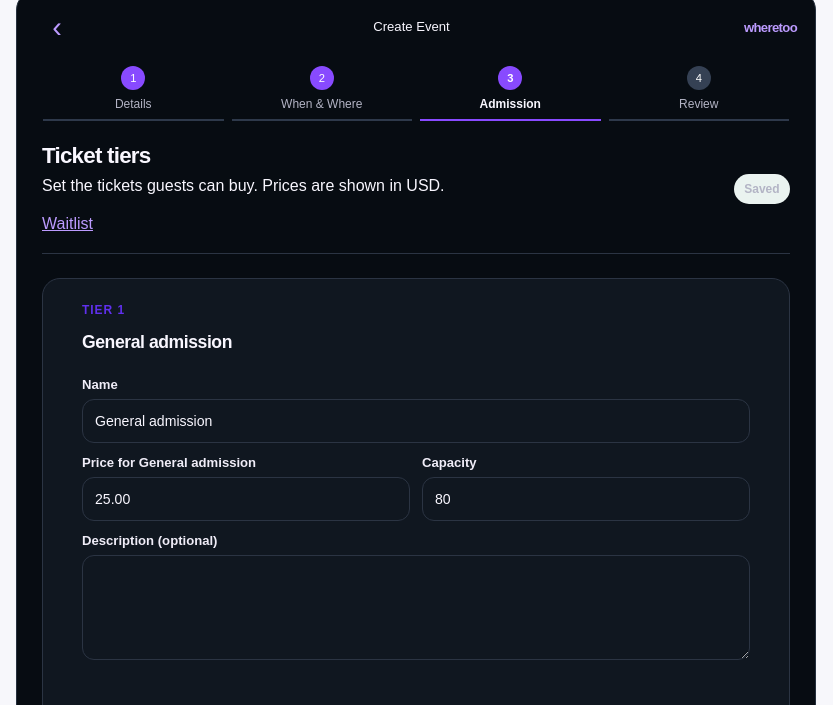
Scenario: OrganizerTicketTiersPage › validates Capacity before mutating and retains the local value
This screenshot has width=833, height=705.
Replace the text in the number field labelled "Capacity" with "0": (586, 499) [422,477,750,521]
(page scrolled)
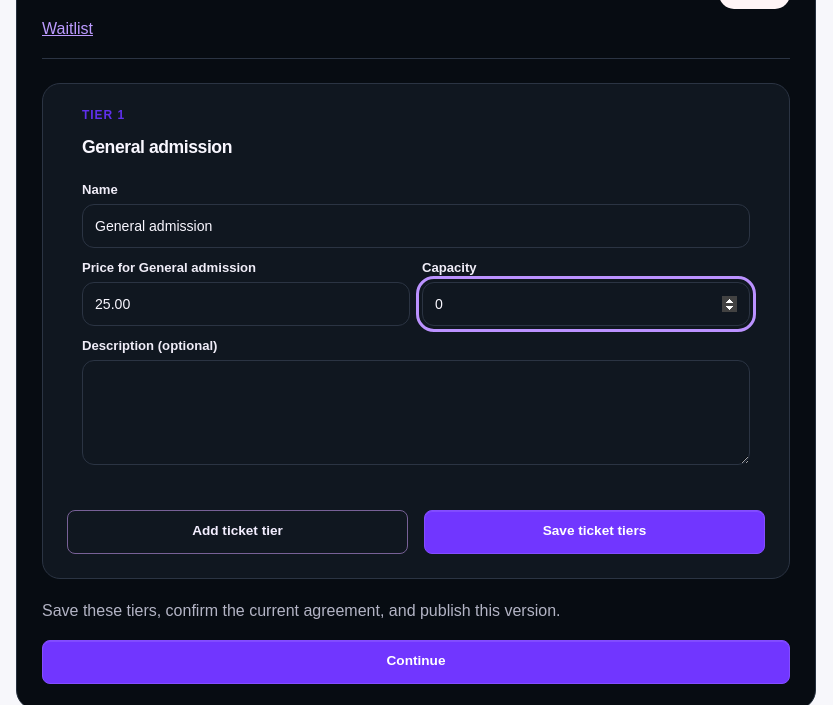
Click the button "Save ticket tiers": (594, 532) [424,510,765,554]
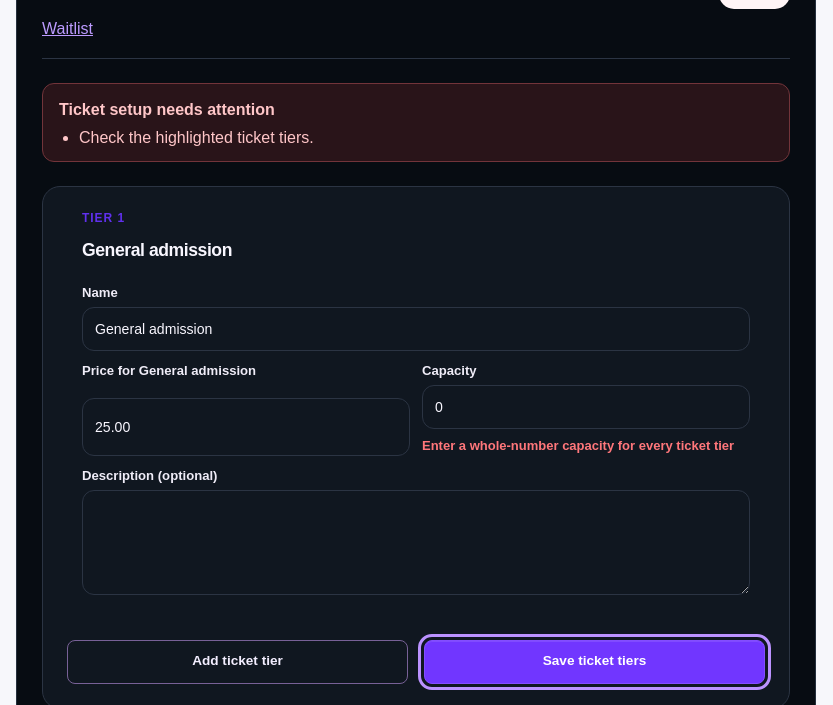
Check: the text "Enter a whole-number capacity for every ticket tier" is shown, box [422,436,750,456]
